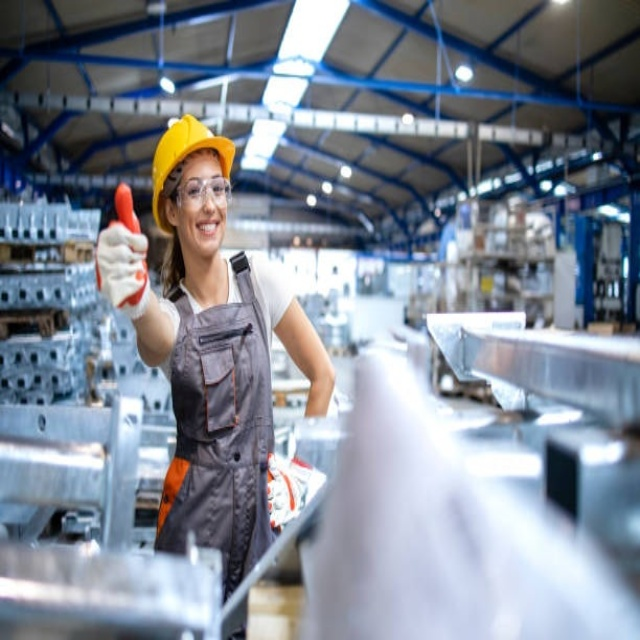Gafas: (171, 176, 234, 210)
Guantes: (94, 180, 146, 317)
Sin_mascara: (195, 219, 221, 237)
